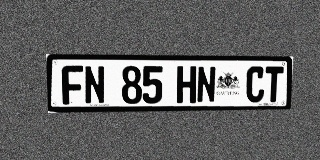5: (143, 66, 163, 104)
8: (121, 66, 142, 104)
C: (246, 66, 265, 102)
F: (61, 65, 84, 105)
H: (177, 66, 196, 103)
N: (84, 66, 105, 104), (196, 66, 216, 103)
T: (264, 66, 284, 102)
